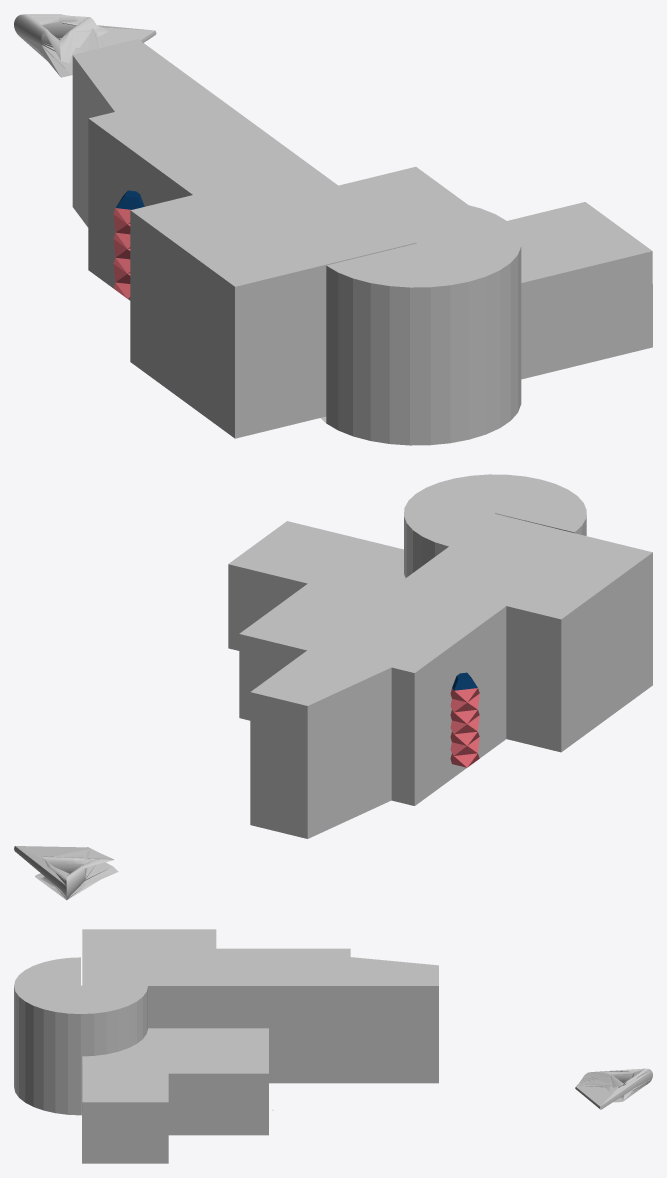
The model's file is museum.obj.
3 views of the same model, one above another, from view 1: azimuth 30°, elevation 25°; view 2: azimuth 150°, elevation 25°; view 3: azimuth 270°, elevation 25° (orthographic). The views are drawn at different scales.
Parts seen in each view (by area): view 1: Cube_Cube.001, Cube.001_Cube.005, Cube.003_Cube.004, Torus.001, Plane.001_Plane.003; view 2: Cube_Cube.001, Cube.003_Cube.004, Cube.001_Cube.005, Torus.001, Plane.001_Plane.003; view 3: Cube_Cube.001, Cube.003_Cube.004, Cube.001_Cube.005, Torus.001.
Boxes of the visible parts, box(x1,y1,x2,y2) form: Cube_Cube.001: box(72, 39, 416, 438); Cube.001_Cube.005: box(321, 199, 521, 445); Cube.003_Cube.004: box(339, 166, 652, 379); Torus.001: box(14, 14, 156, 77); Plane.001_Plane.003: box(113, 190, 144, 298); Cube_Cube.001: box(250, 513, 652, 838); Cube.003_Cube.004: box(228, 521, 405, 720); Cube.001_Cube.005: box(404, 474, 586, 577); Torus.001: box(14, 846, 118, 900); Plane.001_Plane.003: box(450, 672, 479, 767); Cube_Cube.001: box(82, 929, 438, 1083); Cube.003_Cube.004: box(82, 1028, 268, 1163); Cube.001_Cube.005: box(14, 957, 147, 1115); Torus.001: box(575, 1068, 652, 1109).
Size of what is drawn, in the model's own units: 24.08 by 8.94 by 49.78.
